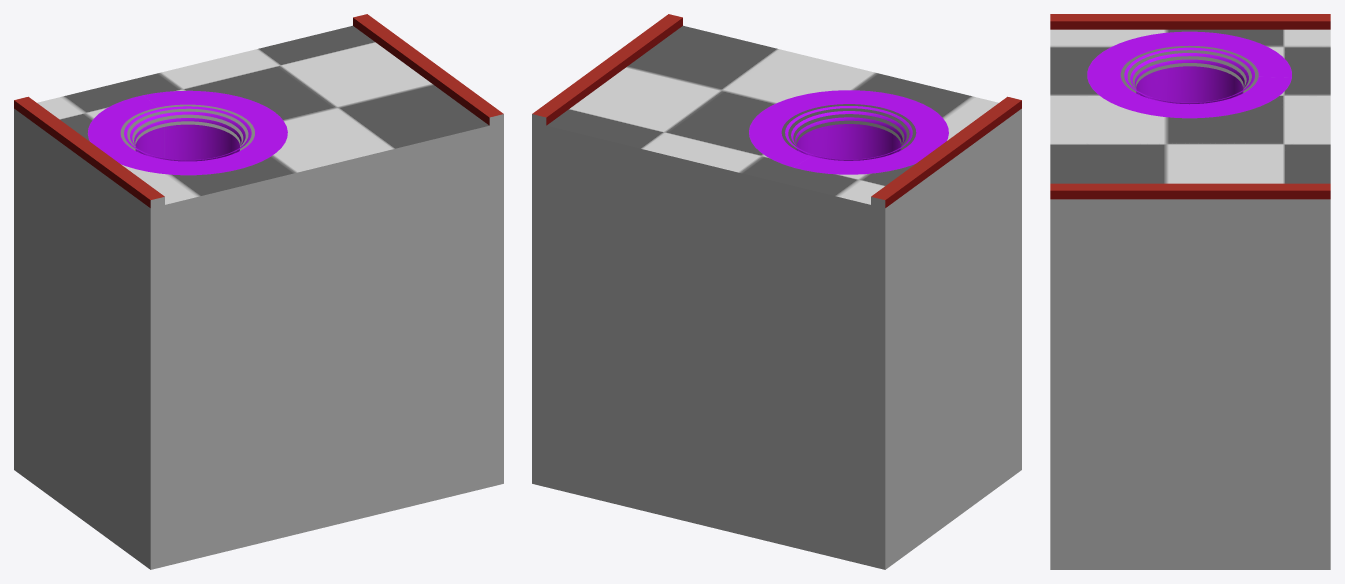
File: Road_Curve_015.fbx
3 views of the same model, side by side, from view 1: azimuth 30°, elevation 25°; view 2: azimuth 150°, elevation 25°; view 3: azimuth 270°, elevation 25° (orthographic). The views are drawn at different scales.
Parts seen in each view (by area): view 1: Road_Curve_015, Road_Curve_015_Border; view 2: Road_Curve_015, Road_Curve_015_Border; view 3: Road_Curve_015, Road_Curve_015_Border.
Part boxes in pixels (left/top/right/bottom): Road_Curve_015: left=14, top=25, right=503, bottom=569; Road_Curve_015_Border: left=14, top=14, right=503, bottom=208; Road_Curve_015: left=532, top=25, right=1021, bottom=569; Road_Curve_015_Border: left=532, top=14, right=1021, bottom=208; Road_Curve_015: left=1050, top=29, right=1330, bottom=569; Road_Curve_015_Border: left=1050, top=14, right=1330, bottom=199.
Size of the model in its own units: 876 by 876 by 587.
